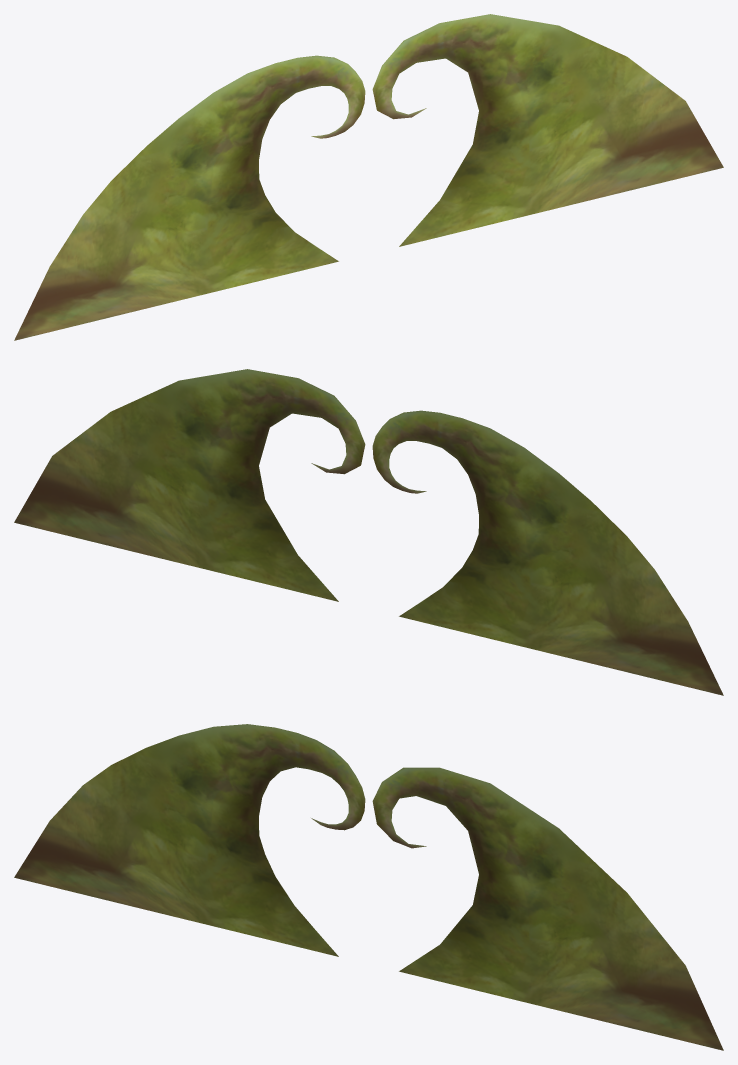
File: m_prop_heartMountain.fbx
The picture shows the model from 3 angles, top to bottom: view 1: azimuth 30°, elevation 25°; view 2: azimuth 150°, elevation 25°; view 3: azimuth 330°, elevation 25°; orthographic projection.
Visible parts, largest first — view 1: pPlane7, pPlane6; view 2: pPlane7, pPlane6; view 3: pPlane7, pPlane6.
Boxes of the visible parts, box(x1,y1,x2,y2) form: pPlane7: box(372, 14, 723, 246); pPlane6: box(14, 55, 365, 340); pPlane7: box(14, 369, 365, 601); pPlane6: box(372, 410, 723, 695); pPlane7: box(372, 767, 723, 1050); pPlane6: box(14, 724, 365, 956).
Bounding box in the file's own units: 51.15 × 14.73 × 0.
